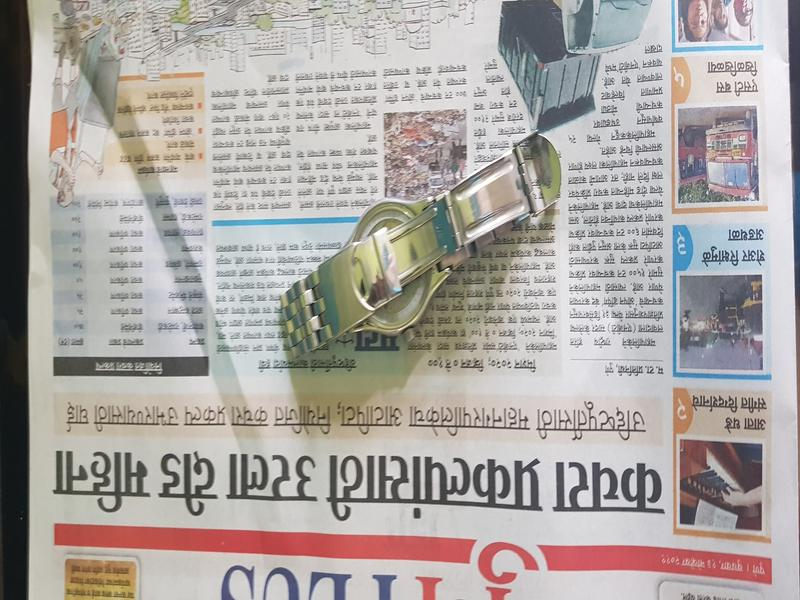watch: (237, 121, 594, 374)
